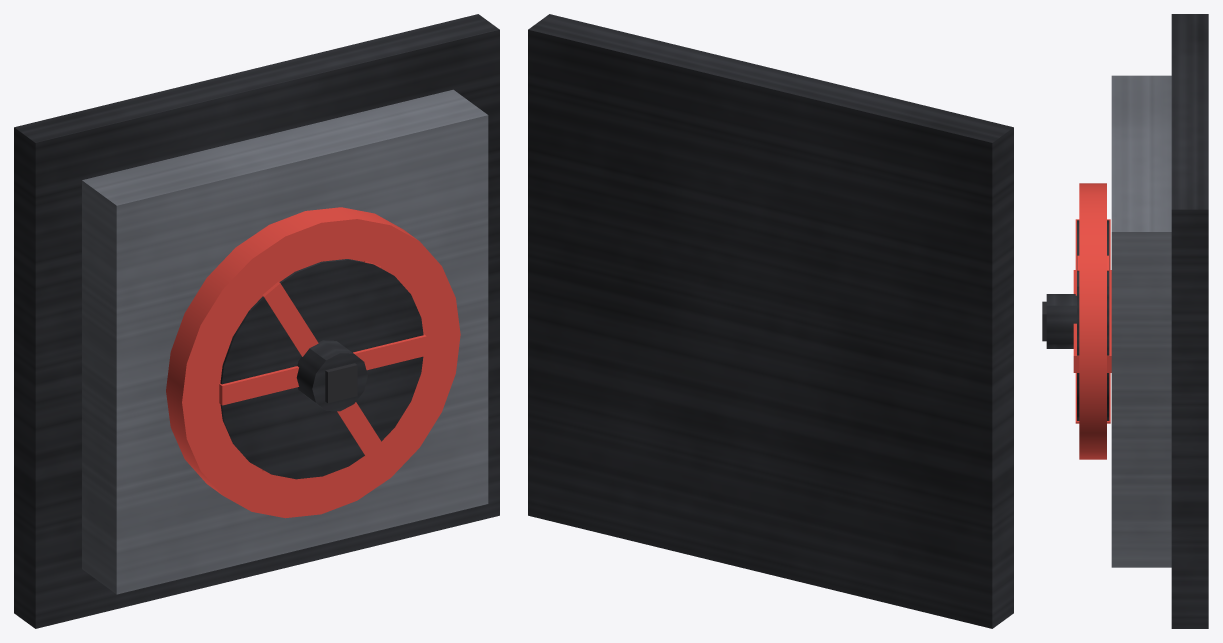
Rendered from BridgeCrank.fbx.
3 views of the same model, side by side, from view 1: azimuth 30°, elevation 25°; view 2: azimuth 150°, elevation 25°; view 3: azimuth 270°, elevation 25° (orthographic). The views are drawn at different scales.
Visible parts, largest first — view 1: BridgeCrank; view 2: BridgeCrank; view 3: BridgeCrank.
Boxes of the visible parts, x1,y1,x2,y2 form: BridgeCrank: [14, 14, 499, 628]; BridgeCrank: [528, 14, 1013, 628]; BridgeCrank: [1042, 14, 1208, 628].
Size of the model in its own units: 0.5 by 0.5 by 0.18.
Materials: 4 (2 with a texture image).
